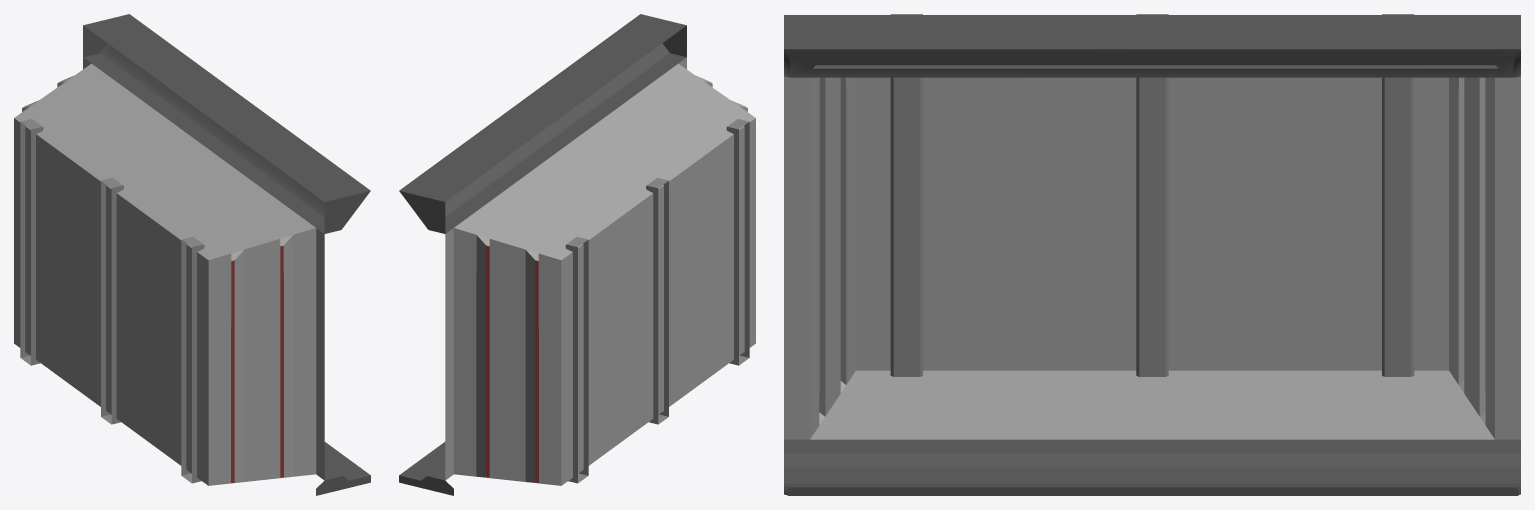
The model's file is SM_Module_11.fbx.
3 renders of one model, left to right at view 1: azimuth 30°, elevation 25°; view 2: azimuth 150°, elevation 25°; view 3: azimuth 270°, elevation 25°, orthographic. The views are drawn at different scales.
Parts seen in each view (by area): view 1: SM_Module_05; view 2: SM_Module_05; view 3: SM_Module_05.
Part boxes in pixels (x1,y1,x2,y2): SM_Module_05: [14, 14, 370, 495]; SM_Module_05: [399, 14, 755, 495]; SM_Module_05: [784, 14, 1520, 495].
Bounding box in the file's own units: 312 × 601 × 900.
